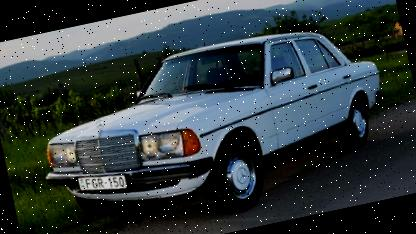car: (24, 5, 406, 234)
